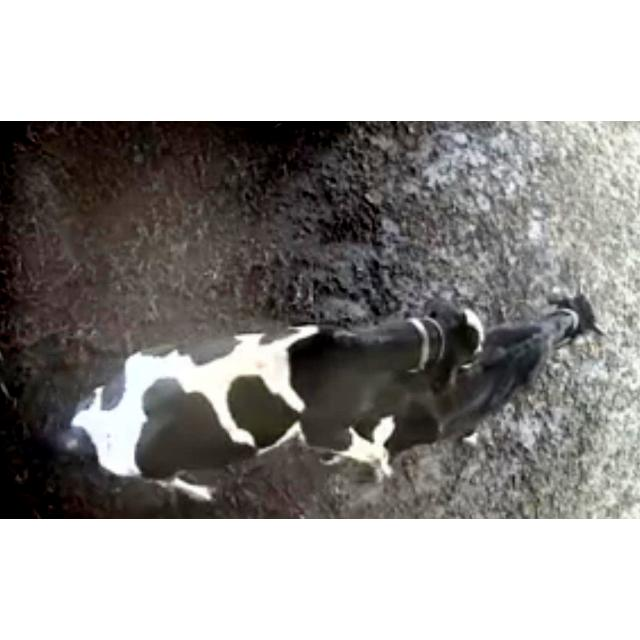ride: (39, 294, 507, 506)
